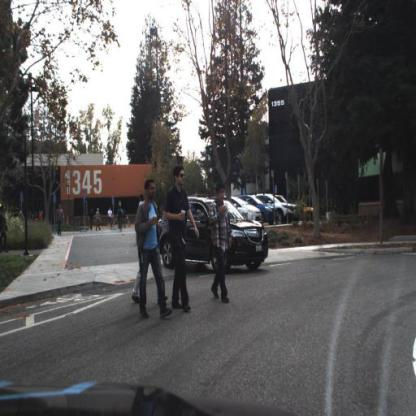biker: (114, 204, 126, 234), (117, 204, 125, 232), (108, 208, 116, 231)
car: (158, 194, 270, 275), (256, 190, 299, 223), (1, 204, 12, 255)
pedestrian: (133, 180, 173, 322), (164, 168, 200, 311), (207, 185, 235, 305), (131, 193, 149, 308), (55, 202, 66, 237), (56, 203, 65, 237), (94, 206, 102, 233), (88, 205, 95, 232), (96, 207, 102, 233)
